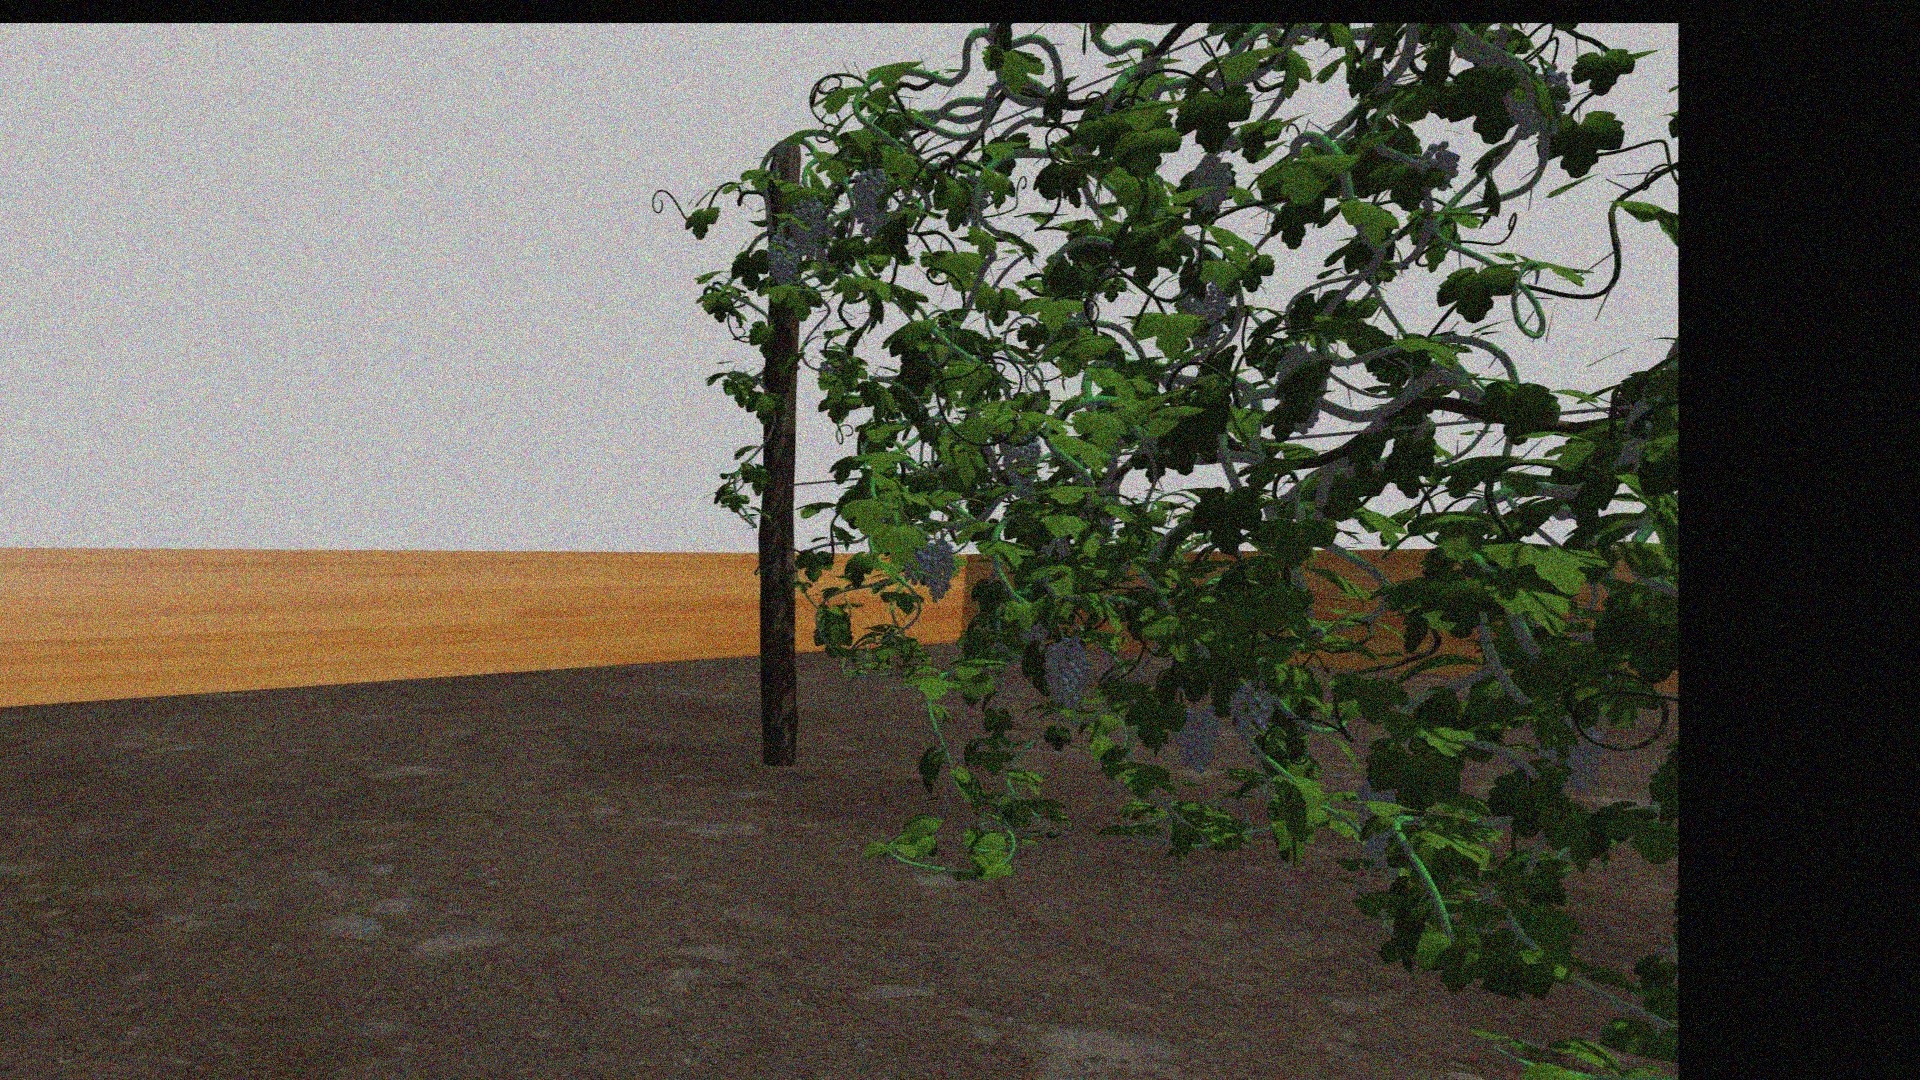grape: (1536, 713, 1606, 793), (1503, 69, 1571, 136), (1174, 285, 1230, 351), (1043, 636, 1089, 712), (1172, 702, 1220, 775), (1408, 138, 1462, 185), (852, 167, 887, 237), (787, 196, 824, 261), (1000, 431, 1039, 489), (1192, 154, 1232, 212), (1230, 684, 1273, 738), (924, 539, 955, 604), (767, 235, 800, 286)
